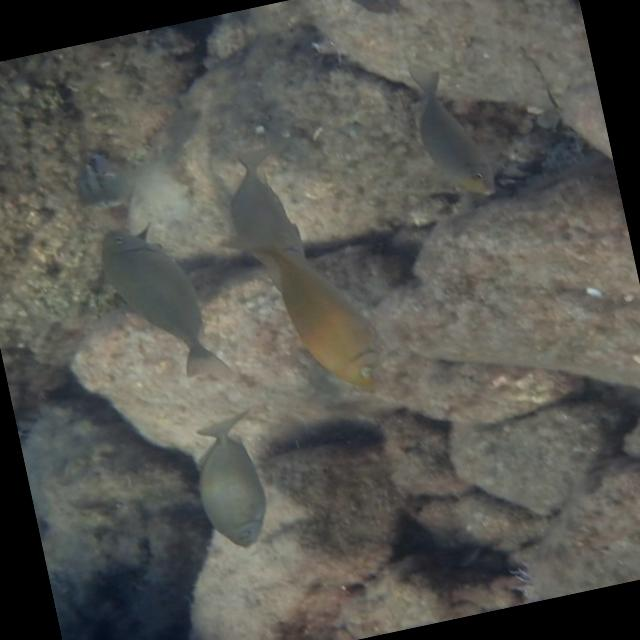Sokar Baligi: (83, 204, 258, 412), (168, 402, 300, 568)
